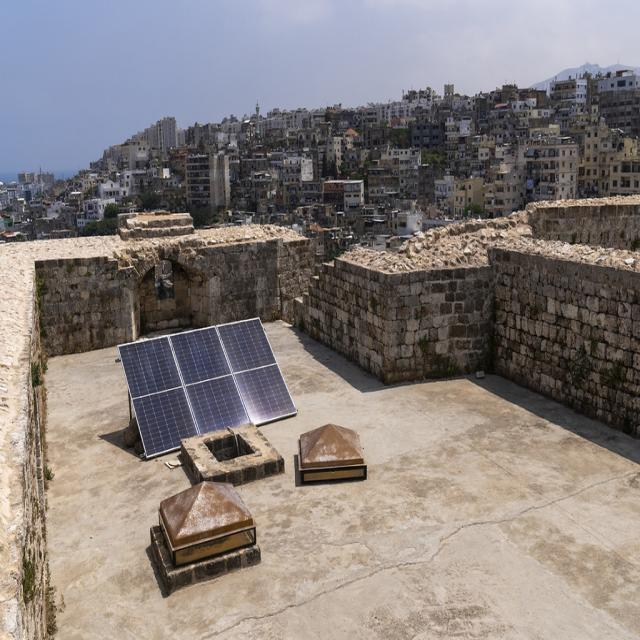dust-solar-panel: (119, 336, 181, 398)
